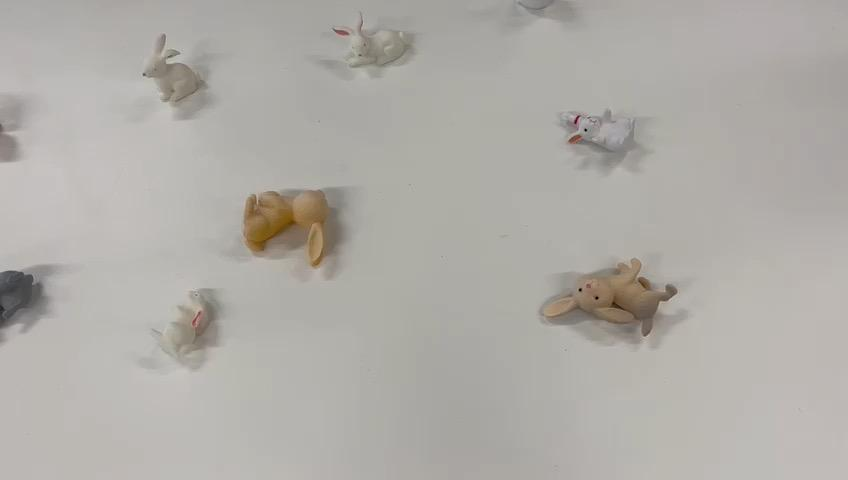pet: (223, 173, 361, 302), (548, 235, 684, 353), (546, 95, 662, 209), (148, 278, 244, 370), (311, 0, 420, 81), (3, 245, 73, 361), (143, 38, 217, 134)
